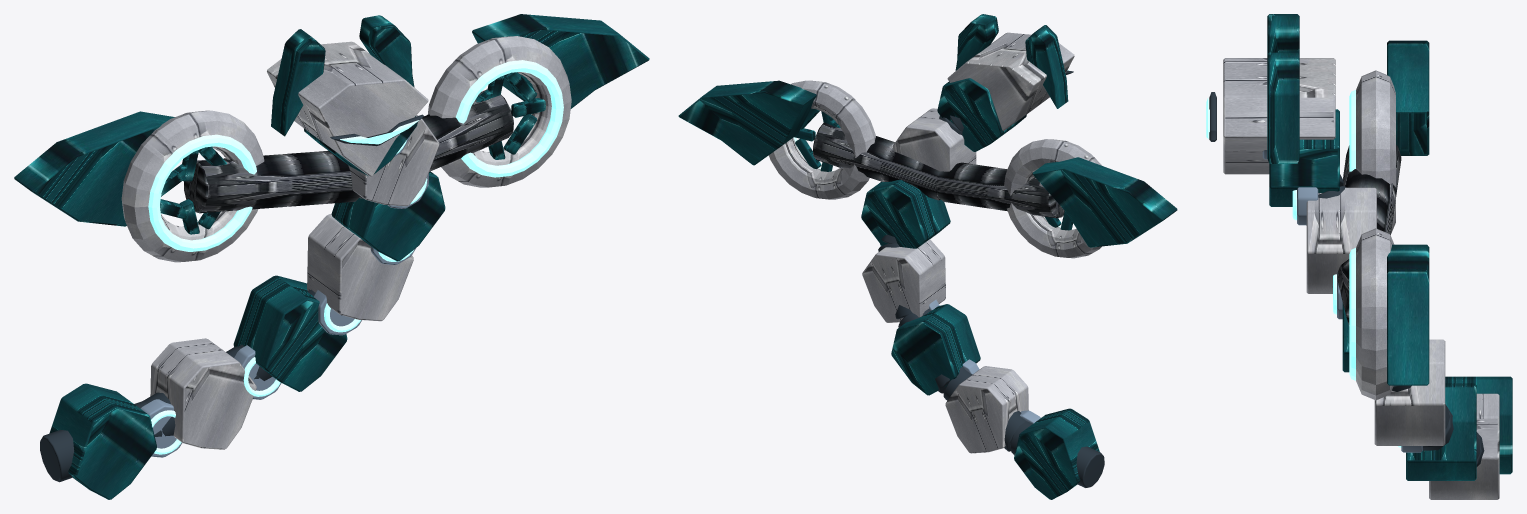
File: aerowyrm.glb
3 renders of one model, left to right at view 1: azimuth 30°, elevation 25°; view 2: azimuth 150°, elevation 25°; view 3: azimuth 270°, elevation 25°, orthographic. The views are drawn at different scales.
Parts seen in each view (by area): view 1: Overlapping segment carapace.001, Overlapping segment carapace, Impeller, Impeller.007, Ducted fan shell, Wing mounting strut, Ducted fan shell.001, Wing mounting strut.001, Ducted fan light.001, Ducted fan light, Articulated hydraulic link, Segment rotating hub (+1 smaller); view 2: Overlapping segment carapace, Overlapping segment carapace.001, Impeller.007, Impeller, Ducted fan shell.001, Ducted fan shell, Wing mounting strut, Wing mounting strut.001, Articulated hydraulic link; view 3: Overlapping segment carapace.001, Overlapping segment carapace, Impeller.007, Ducted fan shell.001, Impeller, Ducted fan shell, Wing mounting strut, Articulated hydraulic link, Segment rotating hub, Ducted fan light.001, Ducted fan light, Wing mounting strut.001 (+1 smaller).
Part boxes in pixels (x1,y1,x2,y2): Overlapping segment carapace.001: (150,41,439,449); Overlapping segment carapace: (49,15,445,499); Impeller: (14,111,227,234); Impeller.007: (472,14,649,159); Ducted fan shell: (121,110,264,262); Wing mounting strut: (184,150,360,213); Ducted fan shell.001: (427,36,571,187); Wing mounting strut.001: (359,89,513,198); Ducted fan light.001: (455,60,563,177); Ducted fan light: (148,134,256,251); Articulated hydraulic link: (40,114,424,482); Segment rotating hub: (140,136,428,457); Overlapping segment carapace: (861,14,1099,499); Overlapping segment carapace.001: (862,32,1074,453); Impeller.007: (678,80,840,171); Impeller: (1032,157,1177,247); Ducted fan shell.001: (769,80,875,199); Ducted fan shell: (1004,139,1102,258); Wing mounting strut: (936,162,1064,218); Wing mounting strut.001: (813,122,940,200); Articulated hydraulic link: (878,70,1104,487); Overlapping segment carapace.001: (1223,58,1499,499); Overlapping segment carapace: (1267,14,1512,480); Impeller.007: (1387,244,1429,385); Ducted fan shell.001: (1356,228,1394,400); Impeller: (1387,40,1429,155); Ducted fan shell: (1356,70,1395,233); Wing mounting strut: (1343,145,1401,234); Articulated hydraulic link: (1209,92,1484,466); Segment rotating hub: (1262,150,1422,452); Ducted fan light.001: (1349,248,1355,380); Ducted fan light: (1349,90,1355,171); Wing mounting strut.001: (1337,259,1349,325).
Bounding box in the file's own units: 3.76 × 2.86 × 1.52.
Materials: 6 (3 with a texture image).
